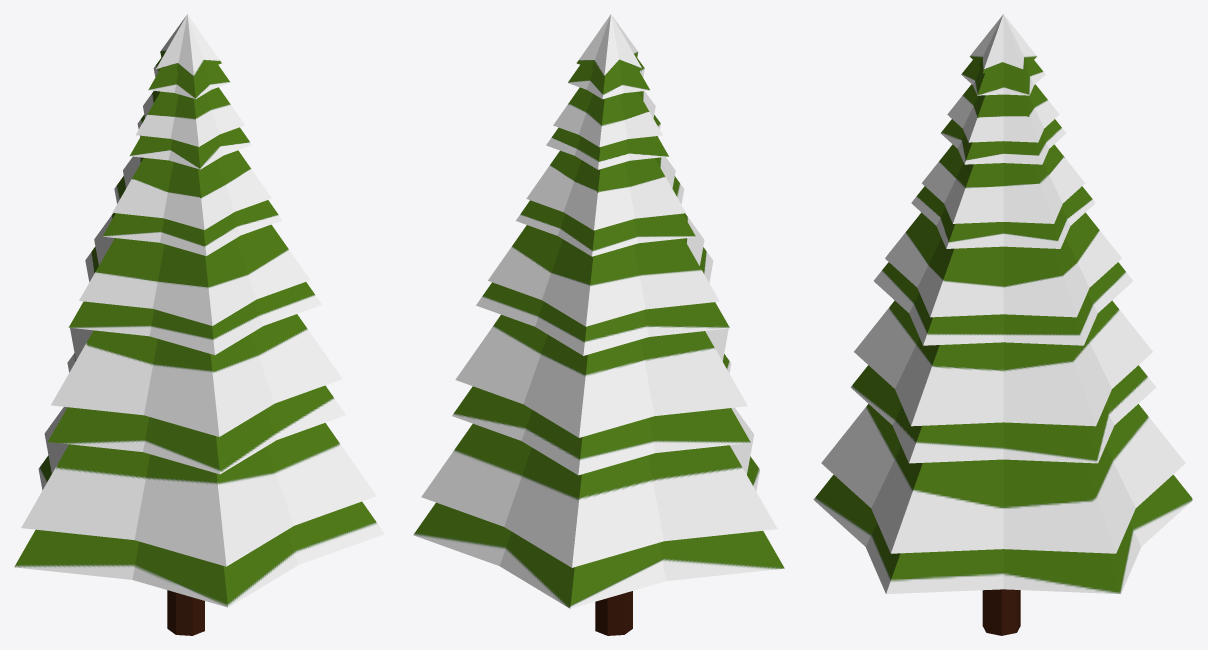
File: cay thong.fbx
The picture shows the model from 3 angles, left to right: view 1: azimuth 30°, elevation 25°; view 2: azimuth 150°, elevation 25°; view 3: azimuth 270°, elevation 25°; orthographic projection.
Parts seen in each view (by area): view 1: cay_thong; view 2: cay_thong; view 3: cay_thong.
Part boxes in pixels (bbox=[...]): cay_thong: bbox=[14, 14, 384, 635]; cay_thong: bbox=[413, 14, 784, 635]; cay_thong: bbox=[813, 14, 1193, 635].
Bounding box in the file's own units: 0.9769 × 1.83 × 1.03.
1 material, 1 textured.
